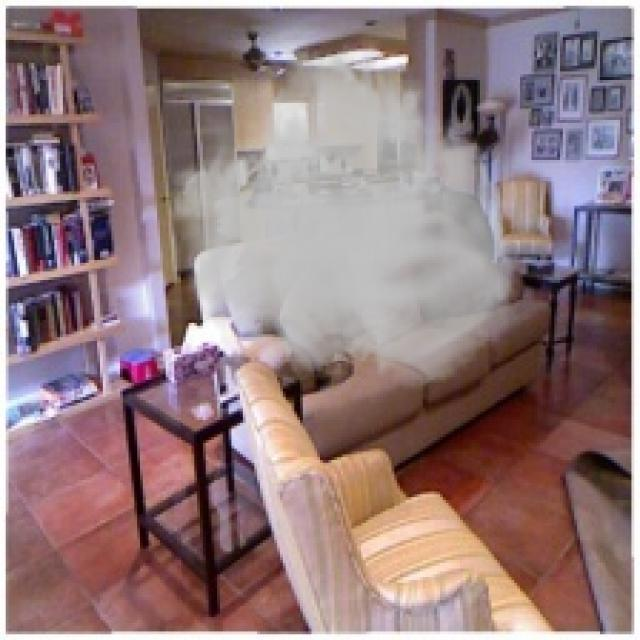Smoke: (166, 29, 523, 392)
